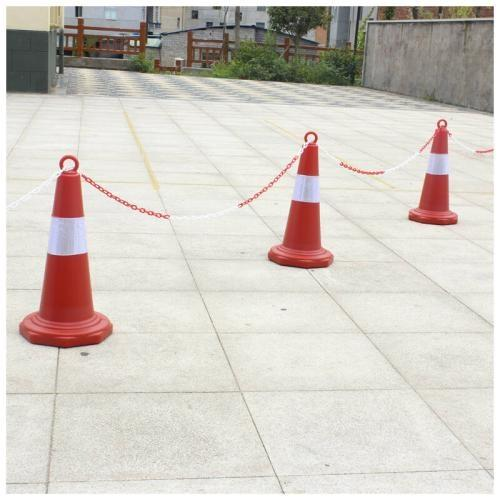cone_barrel: (19, 162, 110, 351), (266, 132, 333, 269), (406, 119, 460, 225)
